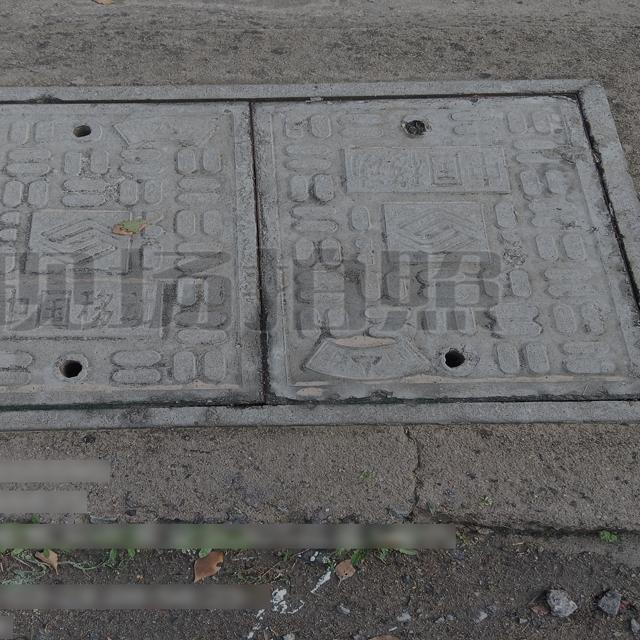good: (0, 78, 640, 433)
